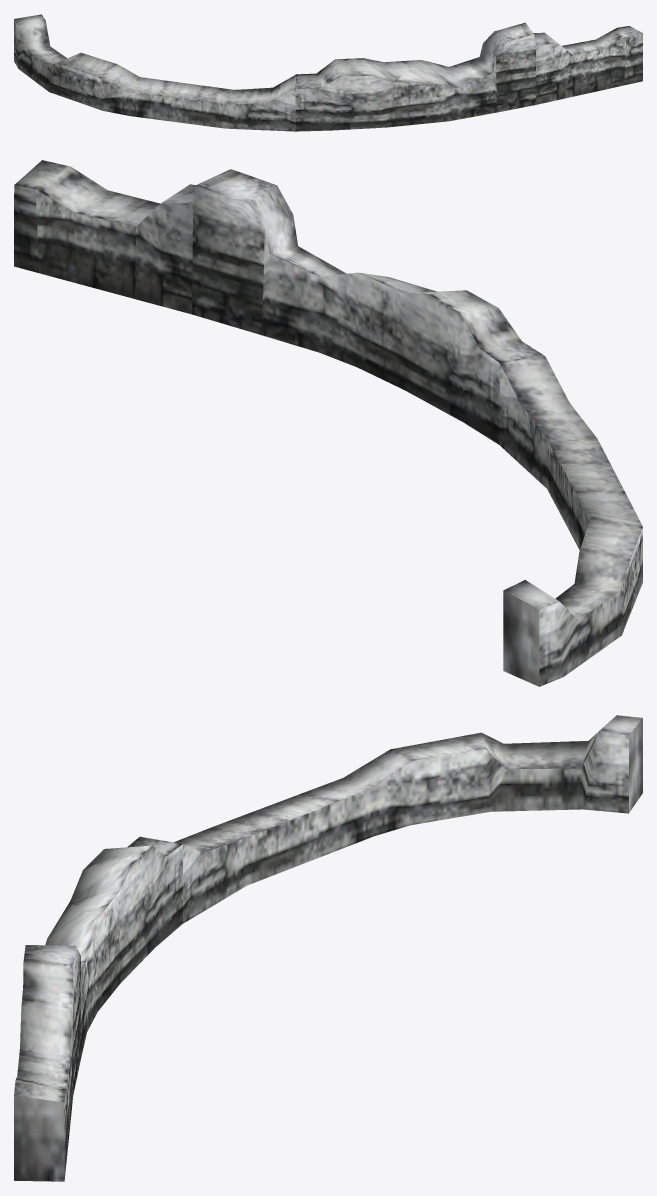
File: S_Build_Snowland013_A.FBX
3 views of the same model, one above another, from view 1: azimuth 30°, elevation 25°; view 2: azimuth 150°, elevation 25°; view 3: azimuth 270°, elevation 25° (orthographic). The views are drawn at different scales.
Parts seen in each view (by area): view 1: S_Build_Snowland013_A; view 2: S_Build_Snowland013_A; view 3: S_Build_Snowland013_A.
Boxes of the visible parts, bbox=[...] form: S_Build_Snowland013_A: bbox=[14, 14, 642, 131]; S_Build_Snowland013_A: bbox=[14, 160, 642, 686]; S_Build_Snowland013_A: bbox=[14, 715, 642, 1181].
Size of the model in its own units: 1451 by 217 by 978.
